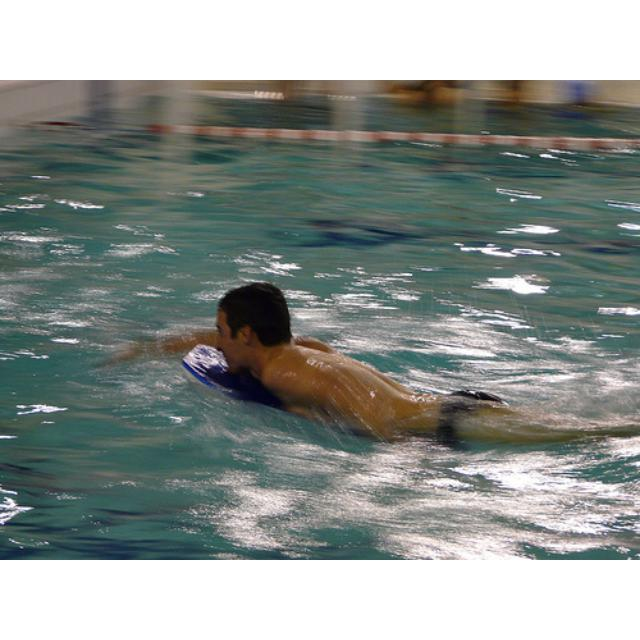human: (179, 283, 639, 453)
